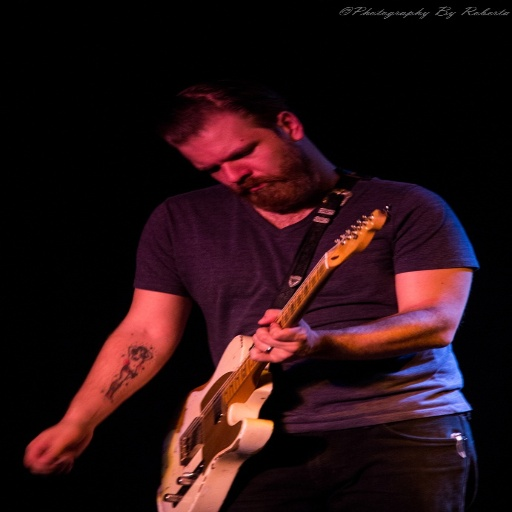hand: (20, 403, 121, 481), (244, 308, 323, 365)
